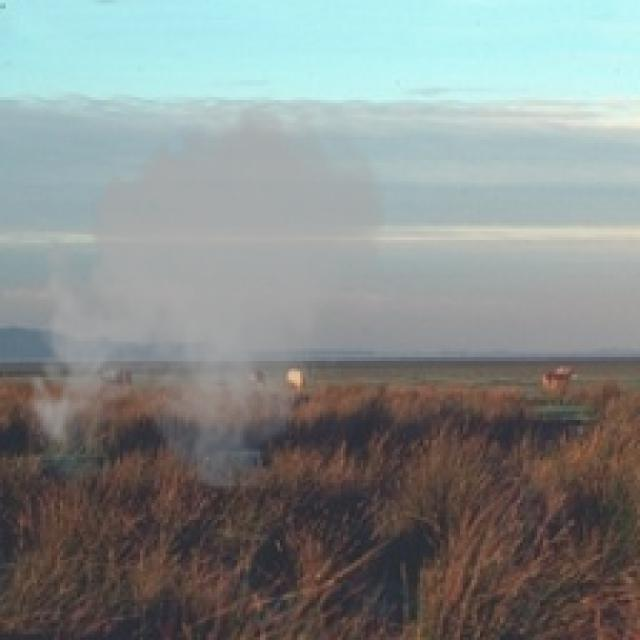smoke: (17, 89, 394, 492)
